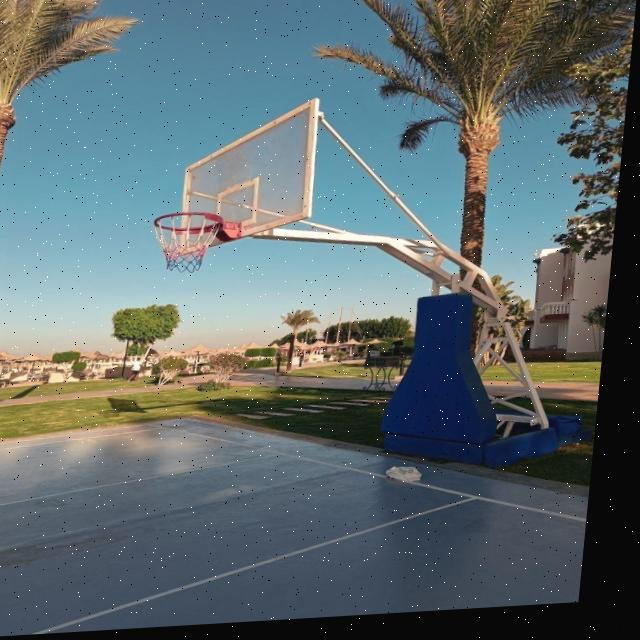hoop: (146, 203, 249, 277)
